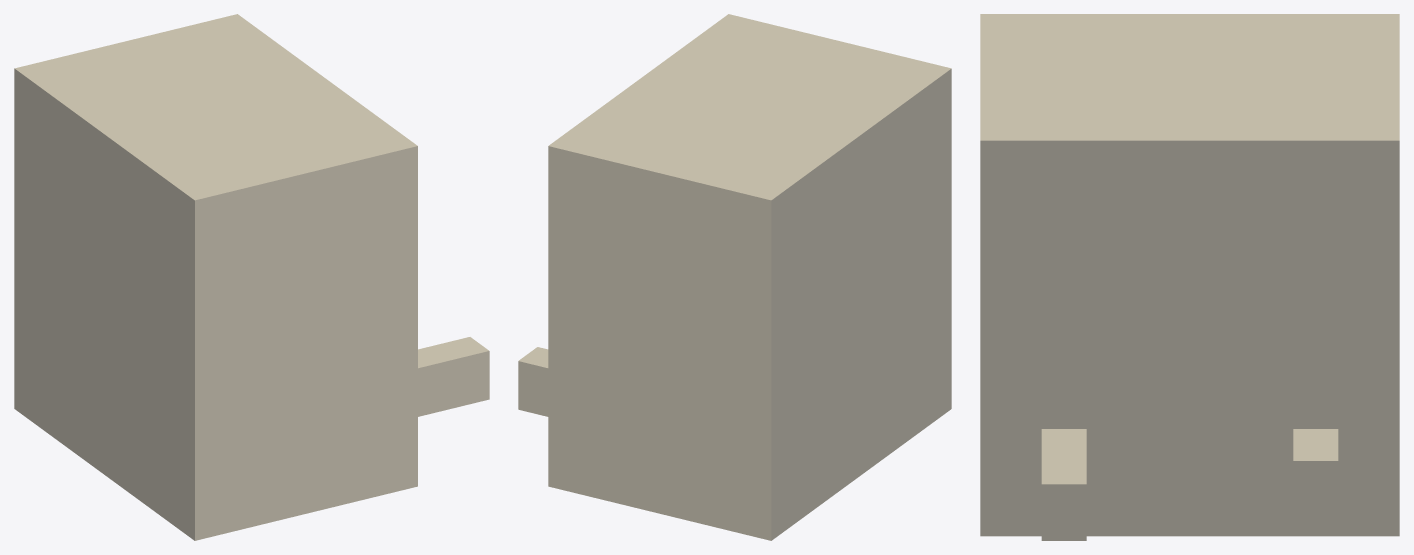
Rendered from BRAT_M5_R_LOW_07.glb.
3 views of the same model, side by side, from view 1: azimuth 30°, elevation 25°; view 2: azimuth 150°, elevation 25°; view 3: azimuth 270°, elevation 25° (orthographic). The views are drawn at different scales.
Visible parts, largest first — view 1: BRAT_M5_R_LOW_07.001; view 2: BRAT_M5_R_LOW_07.001; view 3: BRAT_M5_R_LOW_07.001.
Part boxes in pixels (bbox=[...]): BRAT_M5_R_LOW_07.001: bbox=[14, 14, 489, 540]; BRAT_M5_R_LOW_07.001: bbox=[518, 14, 951, 540]; BRAT_M5_R_LOW_07.001: bbox=[980, 14, 1399, 540].
Bounding box in the file's own units: 0.3454 × 0.35 × 0.336.
